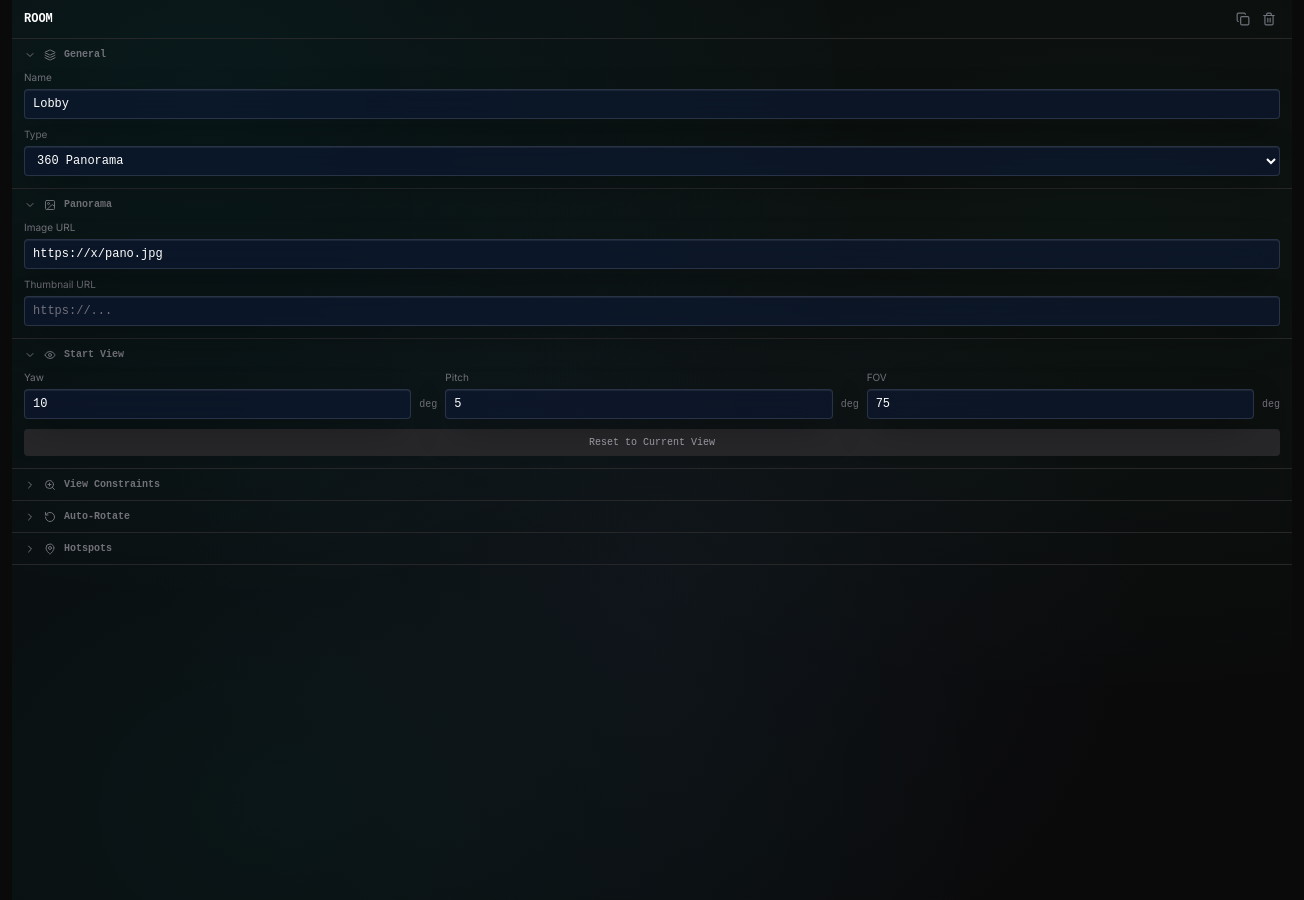
Test: InspectorPanel room-only (hotspot settings moved to viewport popover) › still exposes room hotspot count in the Hotspots section
Click the button "Hotspots".
click(88, 548)  # box [12,533,1292,564]
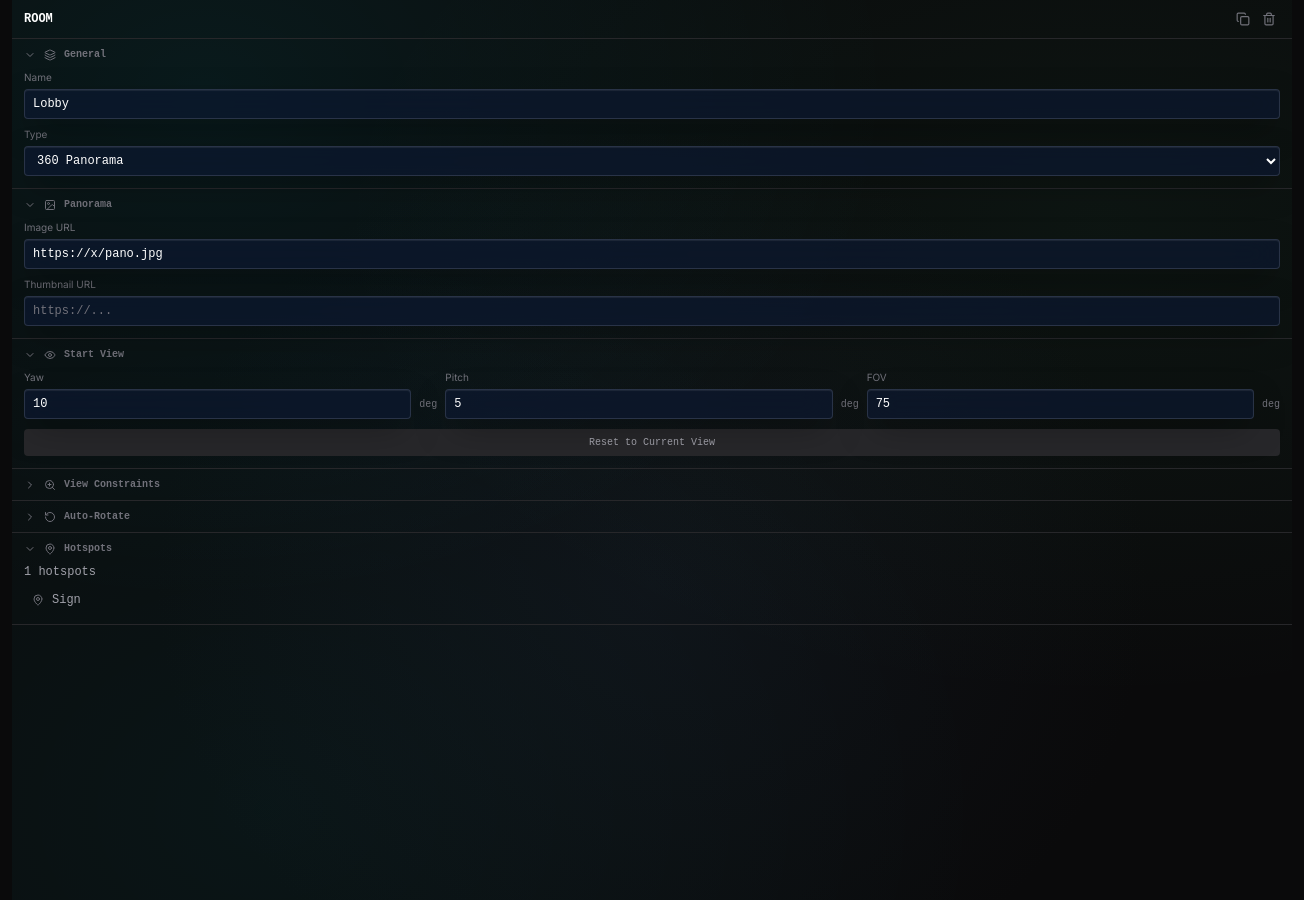
Expected: the text "1 hotspots" is shown, [24,565,96,579]
